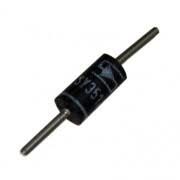diode: (42, 37, 146, 136)
